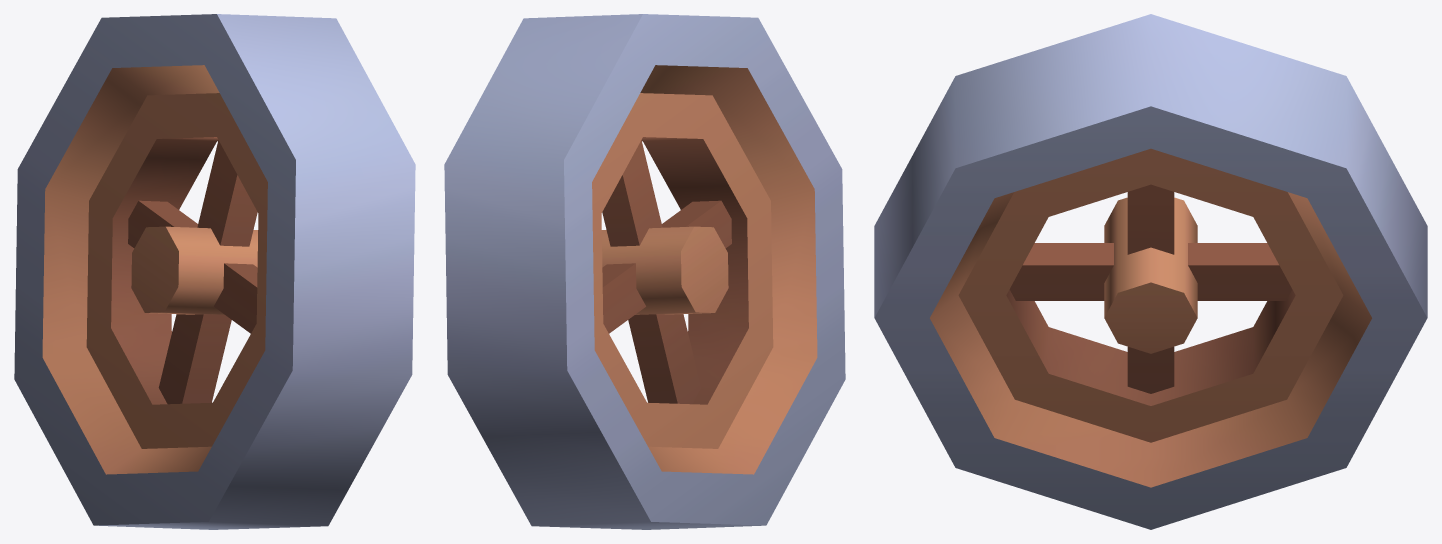
Rendered from wheel.glb.
3 views of the same model, side by side, from view 1: azimuth 30°, elevation 25°; view 2: azimuth 150°, elevation 25°; view 3: azimuth 270°, elevation 25° (orthographic).
Parts seen in each view (by area): view 1: wheel; view 2: wheel; view 3: wheel.
Part boxes in pixels (bbox=[...]): wheel: bbox=[14, 14, 415, 529]; wheel: bbox=[444, 14, 845, 529]; wheel: bbox=[874, 14, 1427, 529].
Bounding box in the file's own units: 0.2384 × 0.4833 × 0.4678.
1 material, 1 textured.
